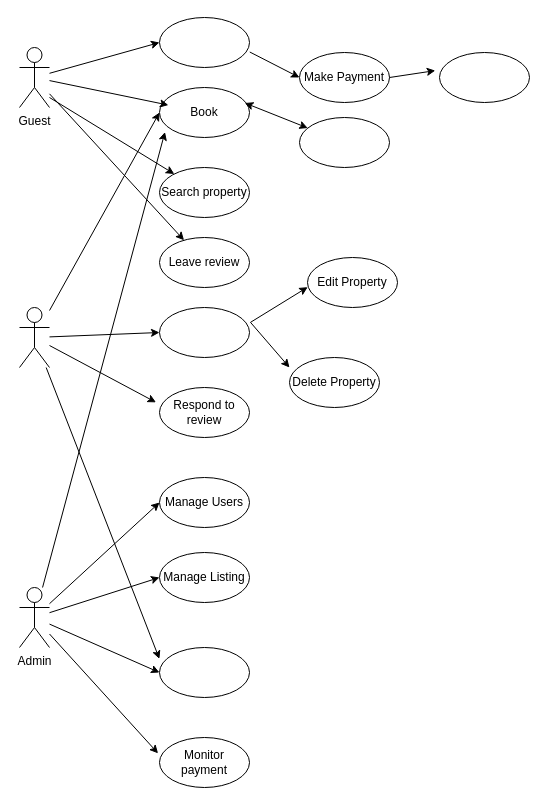
Some shapes in this 547 by 805 pixel diagram are drawn without their labels. The centre of each missing label's shape, as x and y in pixels:
"Add Property" belongs at pixel 204 332.
"Cancel Booking" belongs at pixel 344 142.
"Host" belongs at pixel 34 337.
"Manage booking" belongs at pixel 204 672.
"Payment gateway" belongs at pixel 484 77.
"Register/Login" belongs at pixel 204 42.
